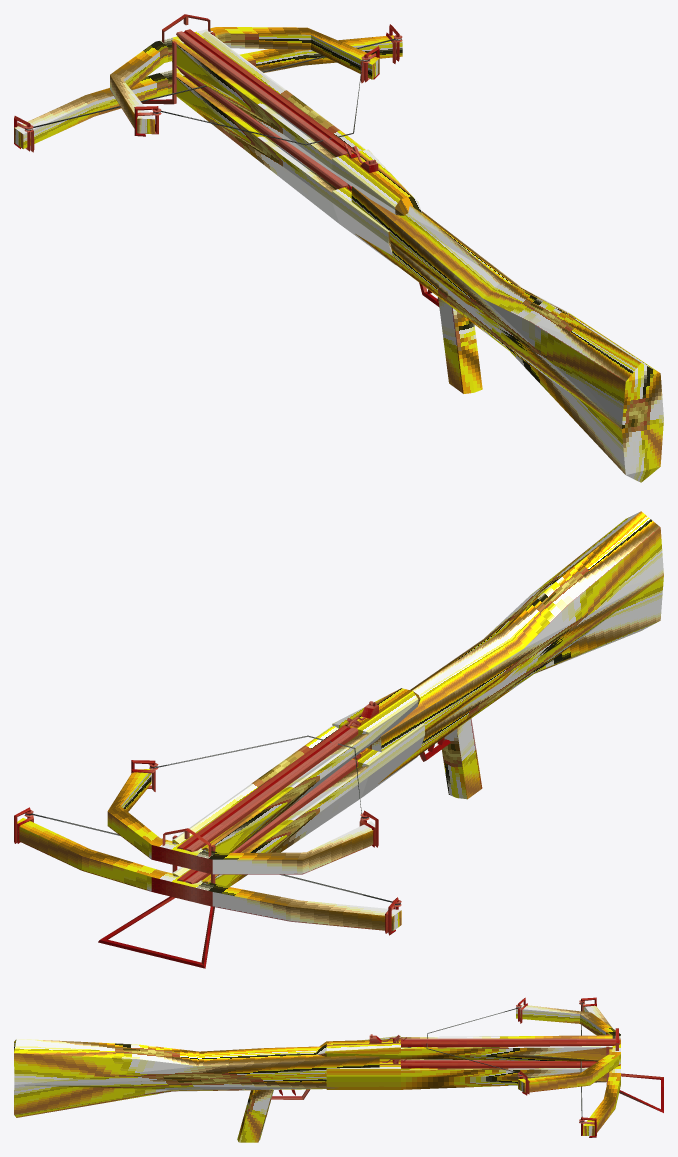
Rendered from double_crossbow_stretching_upper_4.obj.
The picture shows the model from 3 angles, top to bottom: view 1: azimuth 30°, elevation 25°; view 2: azimuth 150°, elevation 25°; view 3: azimuth 270°, elevation 25°; orthographic projection. The views are drawn at different scales.
Visible parts, largest first — view 1: Torus.009_Torus.008, Torus.000, Torus.001_Torus.007; view 2: Torus.009_Torus.008, Torus.000, Torus.001_Torus.007; view 3: Torus.009_Torus.008, Torus.000, Torus.001_Torus.007.
Boxes of the visible parts, left/top/right/bottom form: Torus.009_Torus.008: left=344, top=144, right=663, bottom=482; Torus.000: left=141, top=14, right=422, bottom=264; Torus.001_Torus.007: left=14, top=24, right=402, bottom=152; Torus.009_Torus.008: left=345, top=511, right=663, bottom=799; Torus.000: left=98, top=688, right=424, bottom=968; Torus.001_Torus.007: left=14, top=735, right=401, bottom=935; Torus.009_Torus.008: left=14, top=1034, right=406, bottom=1142; Torus.000: left=316, top=1028, right=663, bottom=1112; Torus.001_Torus.007: left=426, top=997, right=620, bottom=1137.
Bounding box in the file's own units: 3.45 × 1.45 × 7.77.
